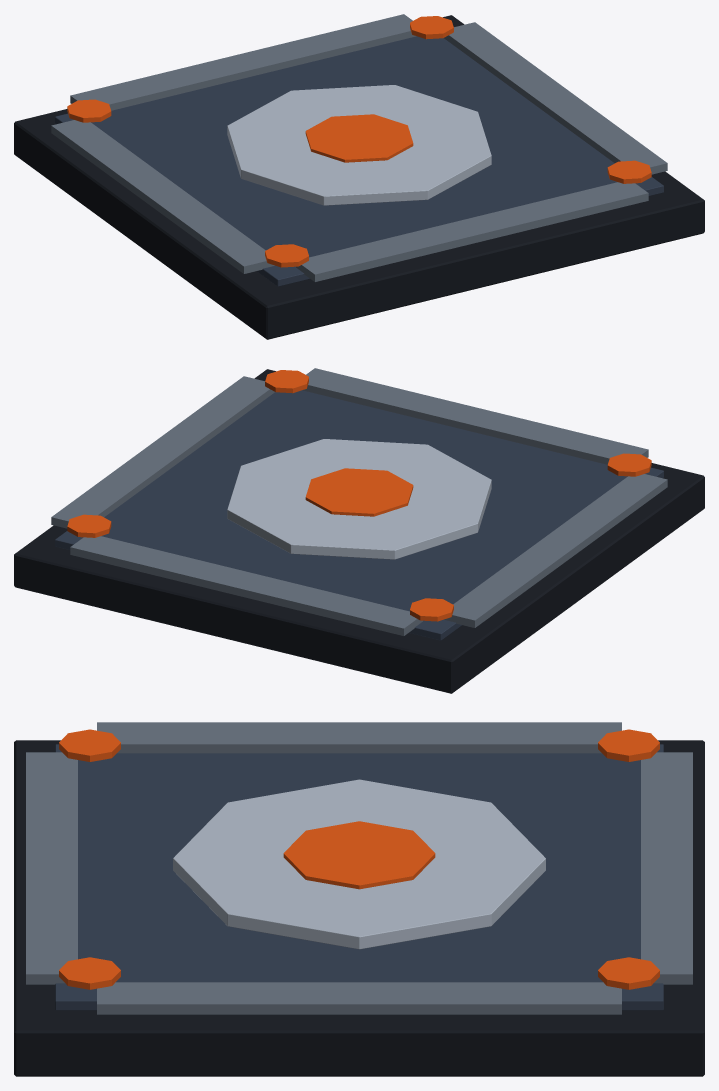
Rendered from floor_module__intact.glb.
3 renders of one model, top to bottom at view 1: azimuth 30°, elevation 25°; view 2: azimuth 150°, elevation 25°; view 3: azimuth 270°, elevation 25°, orthographic. The views are drawn at different scales.
Parts seen in each view (by area): view 1: ROLE_primary, ROLE_rubber, ROLE_bareMetal, ROLE_secondary, ROLE_accent; view 2: ROLE_primary, ROLE_rubber, ROLE_bareMetal, ROLE_secondary, ROLE_accent; view 3: ROLE_primary, ROLE_bareMetal, ROLE_rubber, ROLE_secondary, ROLE_accent.
Boxes of the visible parts, box(x1,y1,x2,y2) form: ROLE_primary: box(55, 36, 663, 286); ROLE_rubber: box(14, 15, 704, 339); ROLE_bareMetal: box(51, 14, 667, 281); ROLE_secondary: box(227, 85, 491, 205); ROLE_accent: box(67, 16, 651, 267); ROLE_primary: box(55, 390, 663, 640); ROLE_rubber: box(14, 369, 704, 693); ROLE_bareMetal: box(51, 368, 667, 635); ROLE_secondary: box(227, 439, 491, 559); ROLE_accent: box(67, 370, 651, 621); ROLE_primary: box(55, 744, 663, 1010); ROLE_bareMetal: box(26, 722, 692, 1014); ROLE_rubber: box(14, 740, 704, 1076); ROLE_secondary: box(173, 779, 545, 949); ROLE_accent: box(59, 729, 659, 989).
Bounding box in the file's own units: 4 × 0.5 × 4.
